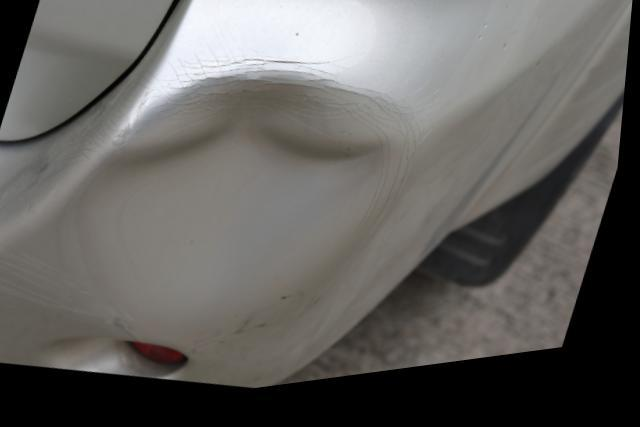dent: (69, 79, 403, 330)
